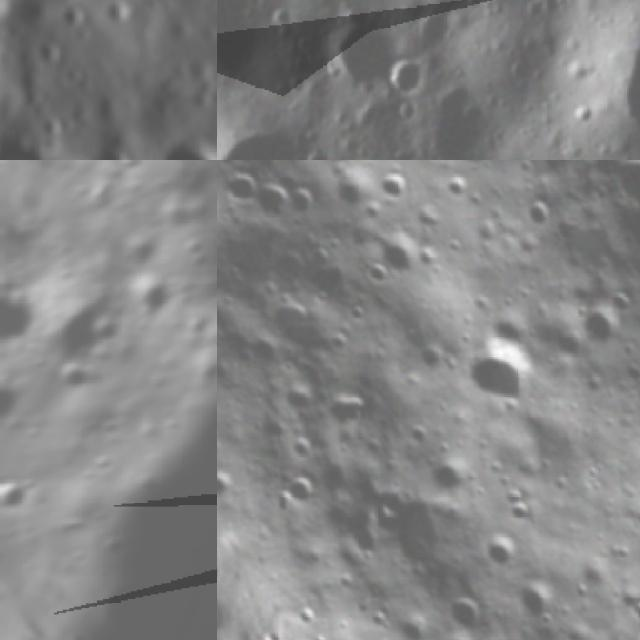crater: (444, 319, 552, 428), (32, 280, 140, 384), (322, 9, 402, 90), (217, 122, 357, 160), (319, 372, 392, 443), (0, 273, 55, 365), (413, 439, 479, 505), (122, 115, 217, 160), (273, 369, 335, 432), (119, 267, 184, 326), (264, 462, 327, 522), (504, 574, 564, 634), (217, 160, 277, 219), (436, 584, 491, 640), (276, 176, 330, 228), (478, 525, 530, 579), (369, 160, 422, 212), (382, 54, 432, 103), (599, 160, 640, 219), (49, 358, 100, 403), (116, 232, 164, 278), (250, 174, 298, 220), (0, 469, 38, 523), (0, 364, 31, 430), (84, 309, 130, 352), (79, 128, 138, 160), (518, 195, 561, 238), (28, 27, 70, 70), (217, 455, 248, 507), (181, 310, 217, 347), (49, 0, 89, 32), (97, 0, 138, 30), (442, 160, 506, 178), (84, 448, 118, 481), (425, 625, 494, 640), (106, 160, 153, 180), (0, 415, 18, 460), (304, 147, 339, 160)
